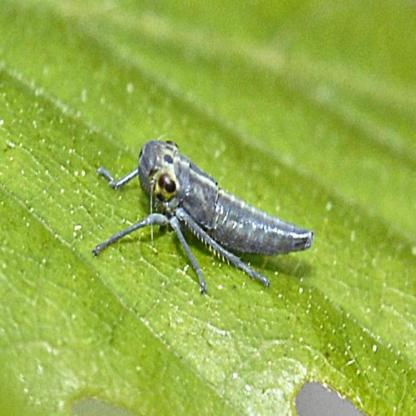Green-Leafhopper: (98, 136, 313, 283)
